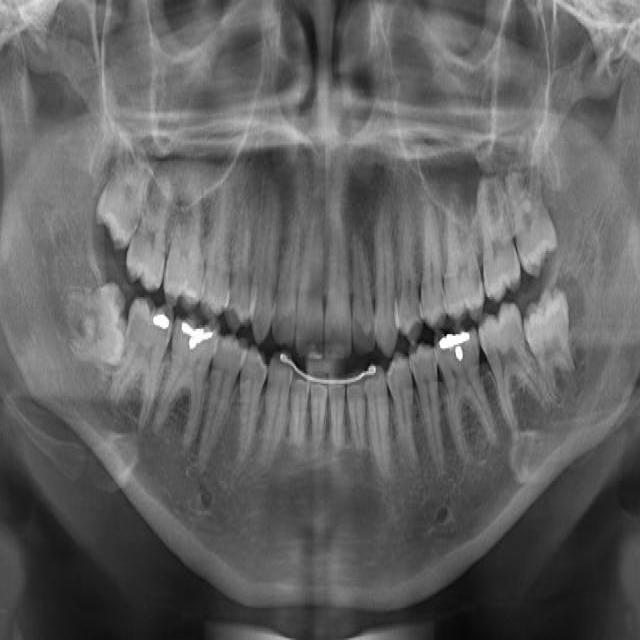dolgu: (172, 307, 218, 370), (436, 318, 478, 369), (138, 290, 174, 348)
